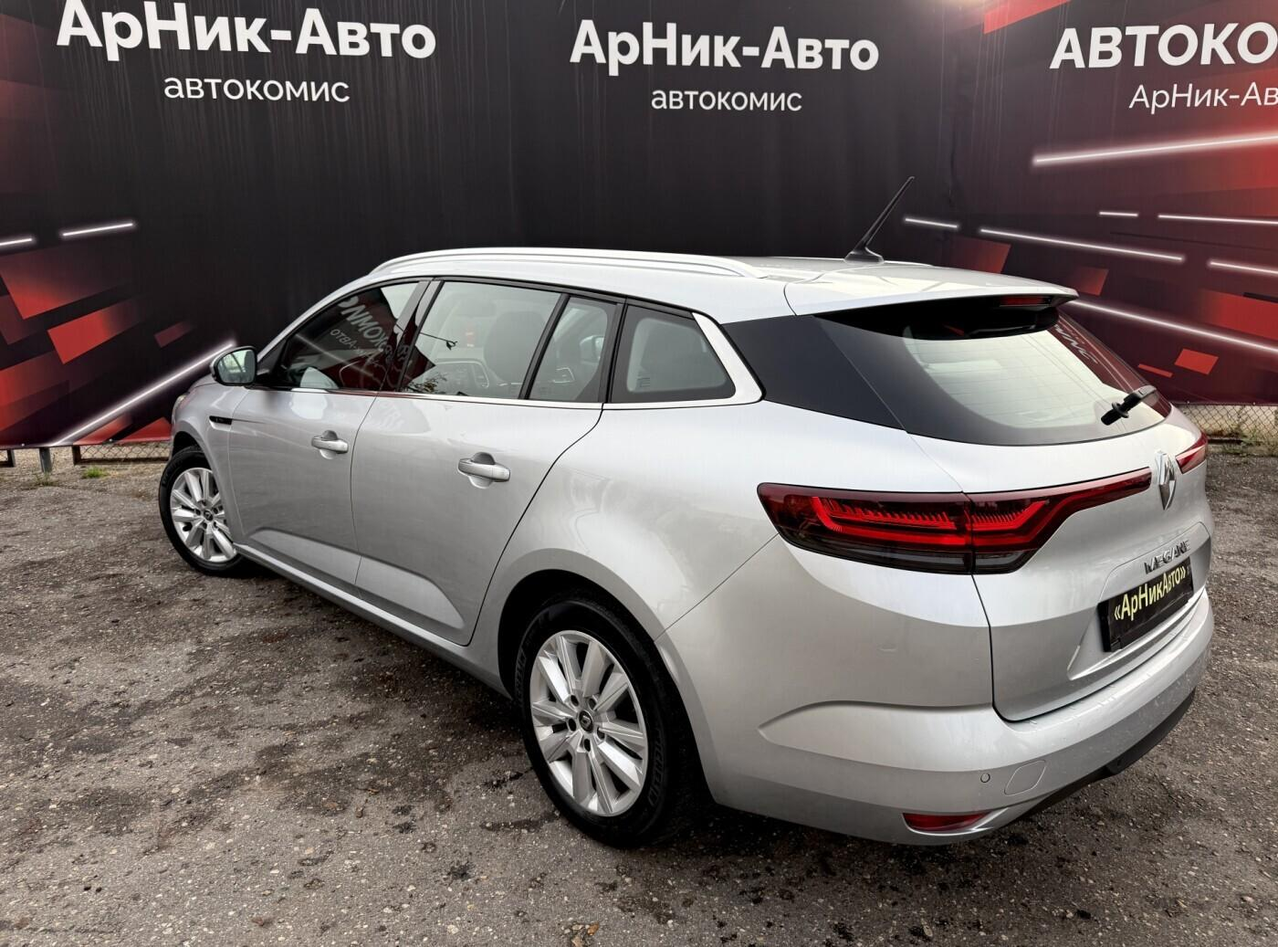Megane_2020: (156, 243, 1218, 852)
